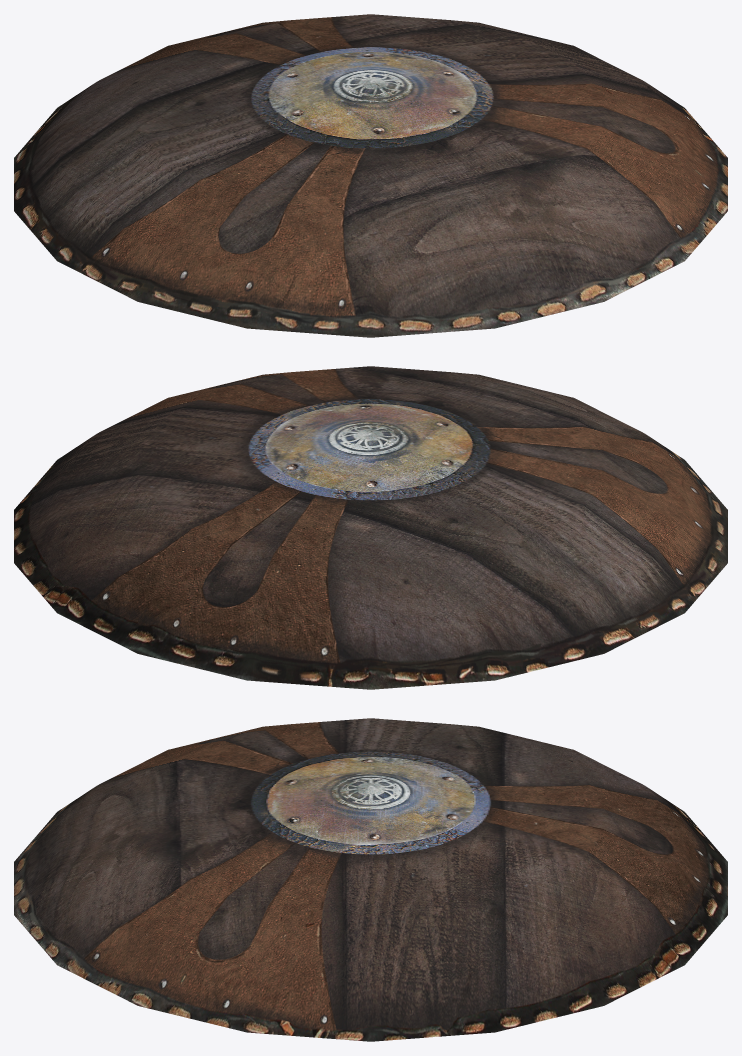
Rendered from Escudo-FBX.FBX.
The picture shows the model from 3 angles, top to bottom: view 1: azimuth 30°, elevation 25°; view 2: azimuth 150°, elevation 25°; view 3: azimuth 270°, elevation 25°; orthographic projection.
Visible parts, largest first — view 1: Cylinder001; view 2: Cylinder001; view 3: Cylinder001.
Part boxes in pixels (bbox=[...]): Cylinder001: bbox=[14, 14, 727, 337]; Cylinder001: bbox=[14, 366, 727, 689]; Cylinder001: bbox=[14, 718, 727, 1041].
Size of the model in its own units: 112 by 17.47 by 110.
